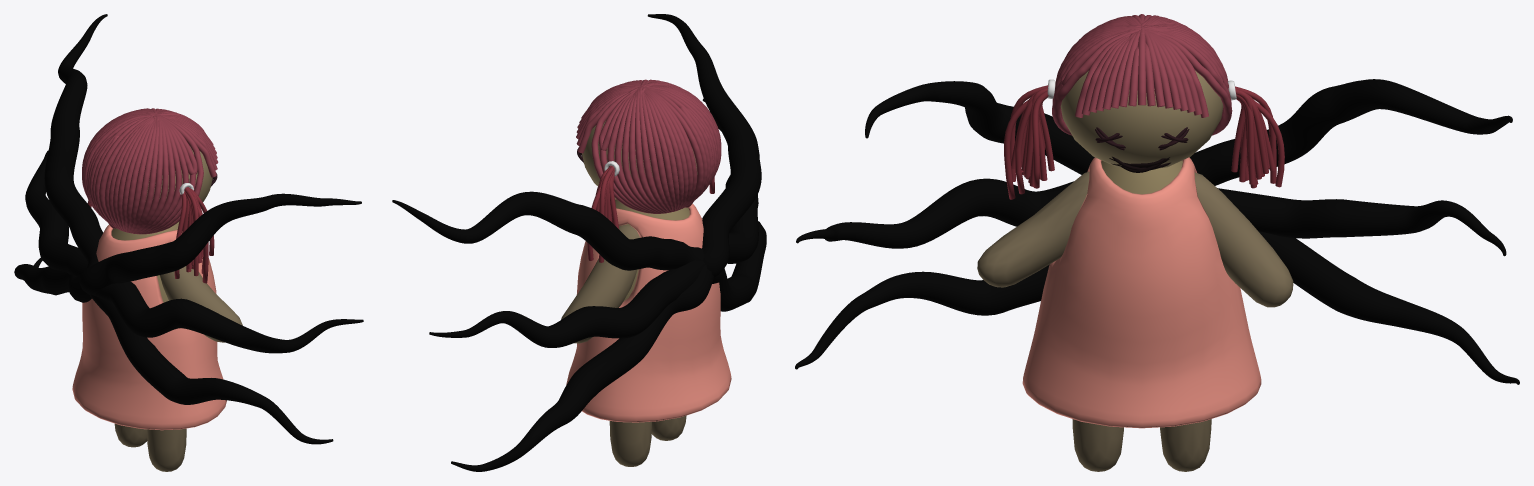
Rendered from puppet.fbx.
3 renders of one model, left to right at view 1: azimuth 30°, elevation 25°; view 2: azimuth 150°, elevation 25°; view 3: azimuth 270°, elevation 25°, orthographic. The views are drawn at different scales.
Parts seen in each view (by area): view 1: Death, Dress, Hair, Arms_Legs, Braids, Body, Head; view 2: Death, Dress, Hair, Arms_Legs, Braids, Head, Body; view 3: Dress, Death, Arms_Legs, Hair, Braids, Head, Body.
Part boxes in pixels (bbox=[...]): Death: bbox=[14, 14, 363, 444]; Dress: bbox=[72, 225, 226, 430]; Hair: bbox=[82, 108, 218, 234]; Arms_Legs: bbox=[114, 266, 242, 471]; Braids: bbox=[87, 187, 214, 283]; Body: bbox=[111, 221, 179, 302]; Head: bbox=[145, 147, 212, 201]; Death: bbox=[392, 14, 766, 471]; Dress: bbox=[566, 199, 731, 422]; Hair: bbox=[576, 79, 721, 213]; Arms_Legs: bbox=[561, 225, 686, 466]; Braids: bbox=[587, 165, 714, 262]; Head: bbox=[582, 121, 697, 199]; Body: bbox=[615, 199, 689, 301]; Dress: bbox=[1022, 157, 1261, 428]; Death: bbox=[795, 79, 1519, 384]; Arms_Legs: bbox=[977, 171, 1293, 471]; Hair: bbox=[1052, 14, 1232, 135]; Braids: bbox=[1004, 85, 1284, 199]; Head: bbox=[1060, 70, 1223, 168]; Body: bbox=[1101, 160, 1182, 194].
Bounding box in the file's own units: 317 × 591 × 871.
